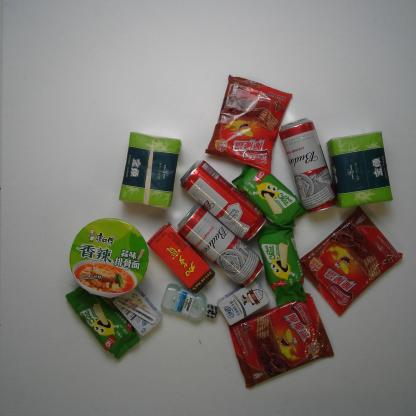Alcohol: (176, 204, 263, 286), (180, 160, 268, 241), (278, 117, 337, 214)
Dessert: (300, 206, 404, 318), (228, 294, 335, 388), (206, 74, 295, 176), (66, 286, 140, 358), (233, 164, 307, 228), (258, 223, 307, 308)
Drink: (146, 224, 216, 294)
Instant Noodles: (68, 216, 149, 300)
Milk: (112, 287, 162, 337), (217, 280, 270, 326)
Personal Hygiene: (160, 284, 218, 322)
Tissue: (326, 132, 394, 208), (118, 132, 182, 209)
